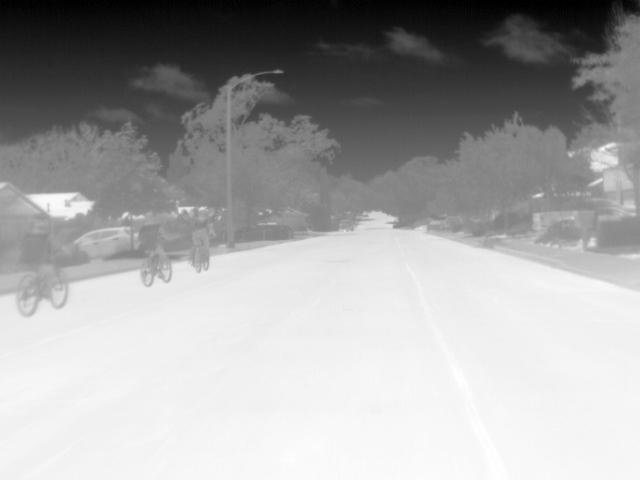car: (76, 223, 139, 266), (531, 210, 578, 235)
person: (22, 219, 70, 299), (136, 213, 176, 274), (188, 209, 218, 263)
